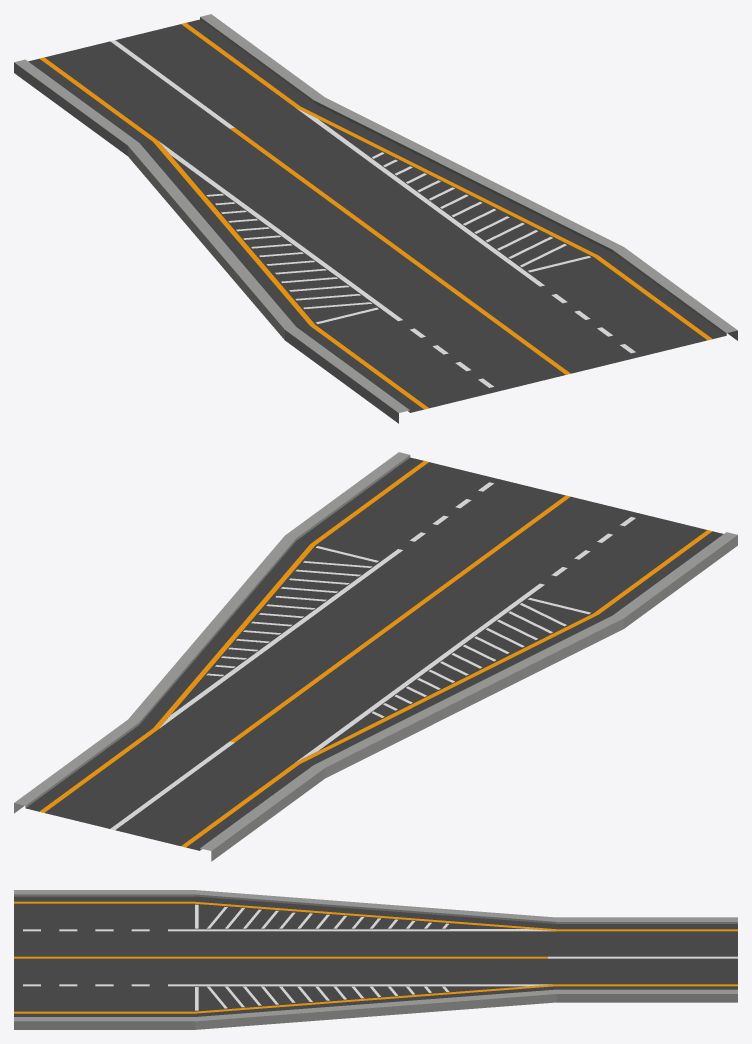
File: Road_A_2L_2_3.fbx
3 renders of one model, top to bottom at view 1: azimuth 30°, elevation 25°; view 2: azimuth 150°, elevation 25°; view 3: azimuth 270°, elevation 25°, orthographic. The views are drawn at different scales.
Visible parts, largest first — view 1: Road_A_2L_2_3; view 2: Road_A_2L_2_3; view 3: Road_A_2L_2_3.
Boxes of the visible parts, left/top/right/bottom form: Road_A_2L_2_3: left=14, top=14, right=737, bottom=423; Road_A_2L_2_3: left=14, top=452, right=737, bottom=861; Road_A_2L_2_3: left=14, top=890, right=737, bottom=1029.
Size of the model in its own units: 1375 by 41.48 by 3200.
